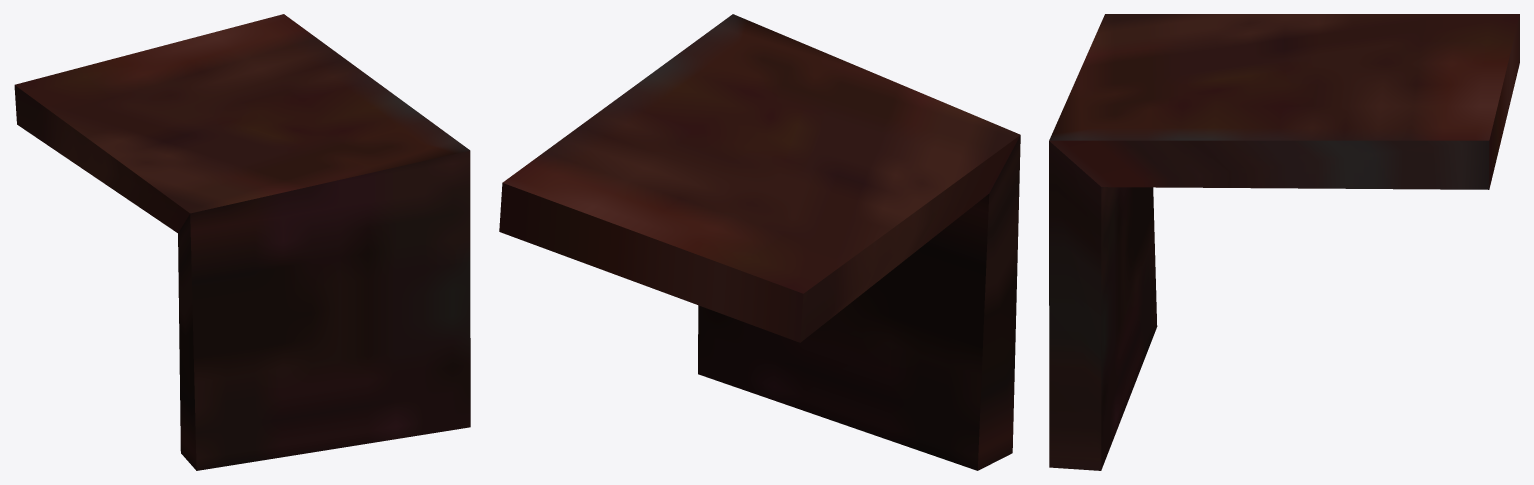
Rendered from Shared - Armor - Tanker Truck - Damage State 05 - CVTanker_d05.glb.
3 views of the same model, side by side, from view 1: azimuth 30°, elevation 25°; view 2: azimuth 150°, elevation 25°; view 3: azimuth 270°, elevation 25° (orthographic). The views are drawn at different scales.
Visible parts, largest first — view 1: CVTANKER_D05; view 2: CVTANKER_D05; view 3: CVTANKER_D05.
Part boxes in pixels (x1,y1,x2,y2): CVTANKER_D05: [14, 14, 470, 470]; CVTANKER_D05: [499, 14, 1020, 470]; CVTANKER_D05: [1049, 14, 1519, 470].
Size of the model in its own units: 3.27 by 3.3 by 4.3.
1 material, 1 textured.
